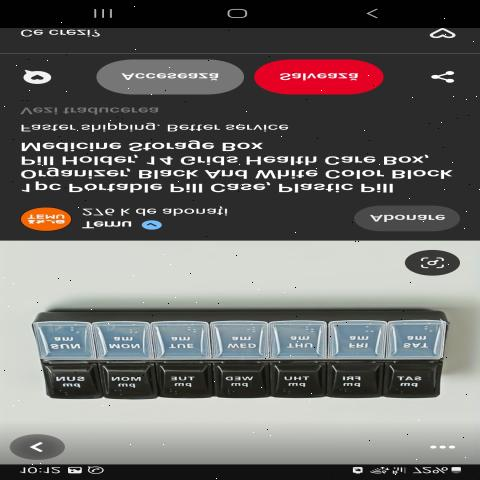PillBox: (22, 295, 464, 410)
